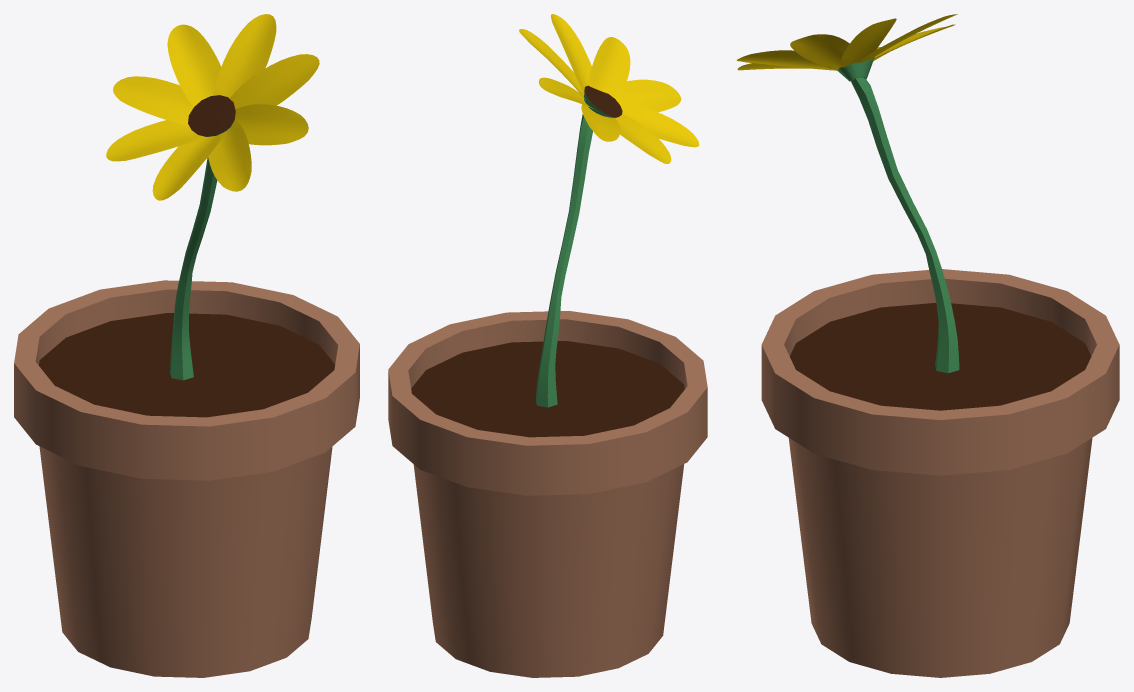
File: flower_pot.fbx
3 views of the same model, side by side, from view 1: azimuth 30°, elevation 25°; view 2: azimuth 150°, elevation 25°; view 3: azimuth 270°, elevation 25° (orthographic). The views are drawn at different scales.
Parts seen in each view (by area): view 1: flower_Pot; view 2: flower_Pot; view 3: flower_Pot.
Boxes of the visible parts, box(x1,y1,x2,y2) form: flower_Pot: box(14, 14, 359, 677); flower_Pot: box(388, 14, 707, 677); flower_Pot: box(736, 14, 1119, 677).
Size of the model in its own units: 12.34 by 24.03 by 13.21.
